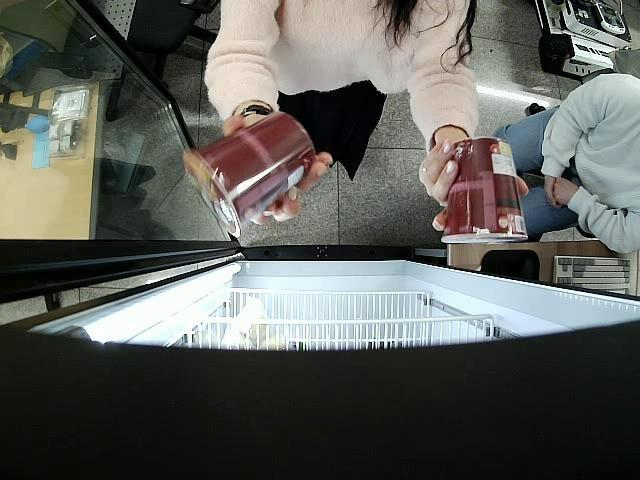06_nuguri_S: (184, 111, 317, 238), (441, 138, 530, 244)
